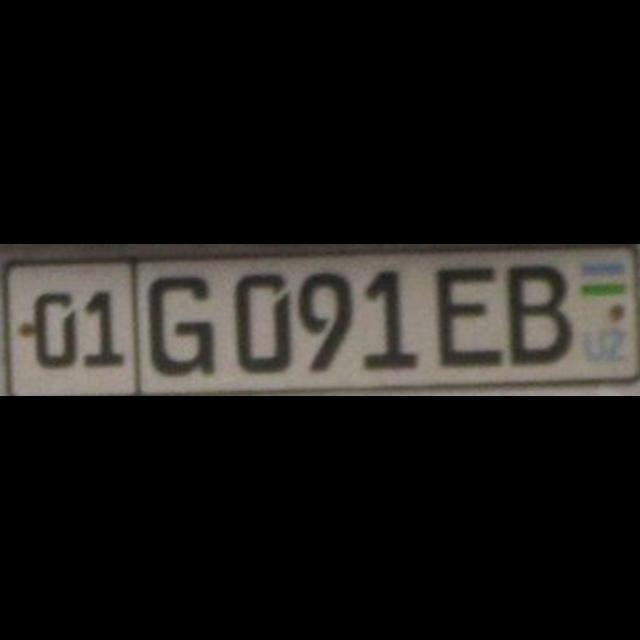0: (232, 272, 290, 373), (32, 292, 78, 368)
1: (363, 264, 422, 370), (86, 290, 124, 362)
9: (294, 268, 354, 369)
B: (507, 264, 571, 370)
E: (436, 258, 502, 376)
G: (146, 265, 220, 377)
